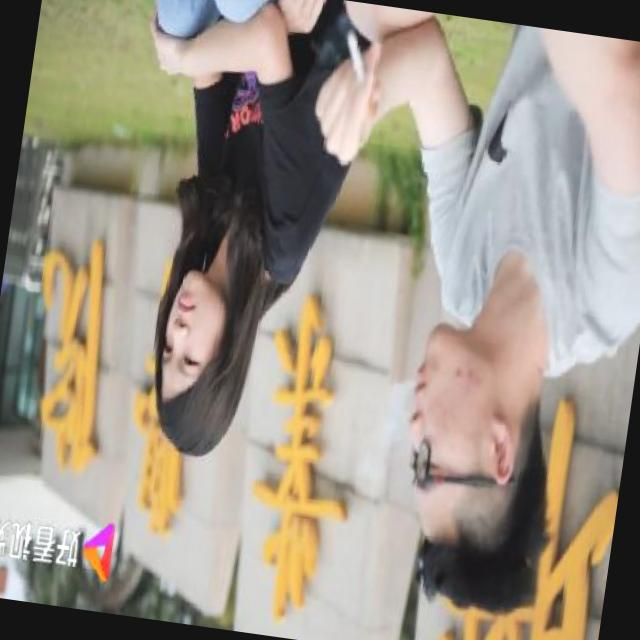smoke: (328, 18, 390, 130)
